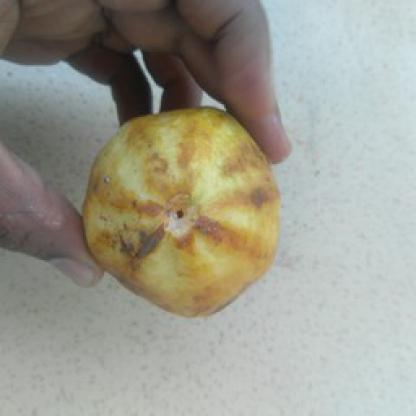guava_rotten: (78, 102, 283, 322)
